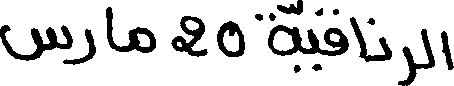0: (216, 18, 247, 56)
2: (171, 14, 208, 58)
ا: (348, 14, 369, 62), (440, 28, 452, 69), (104, 4, 113, 49)
ة: (255, 0, 299, 53)
ر: (70, 27, 96, 65), (395, 44, 415, 84)
س: (0, 23, 73, 66)
ق: (318, 7, 349, 56)
ل: (419, 26, 434, 69)
م: (126, 24, 155, 52)
ن: (369, 17, 391, 61)
ي: (294, 27, 321, 72)
